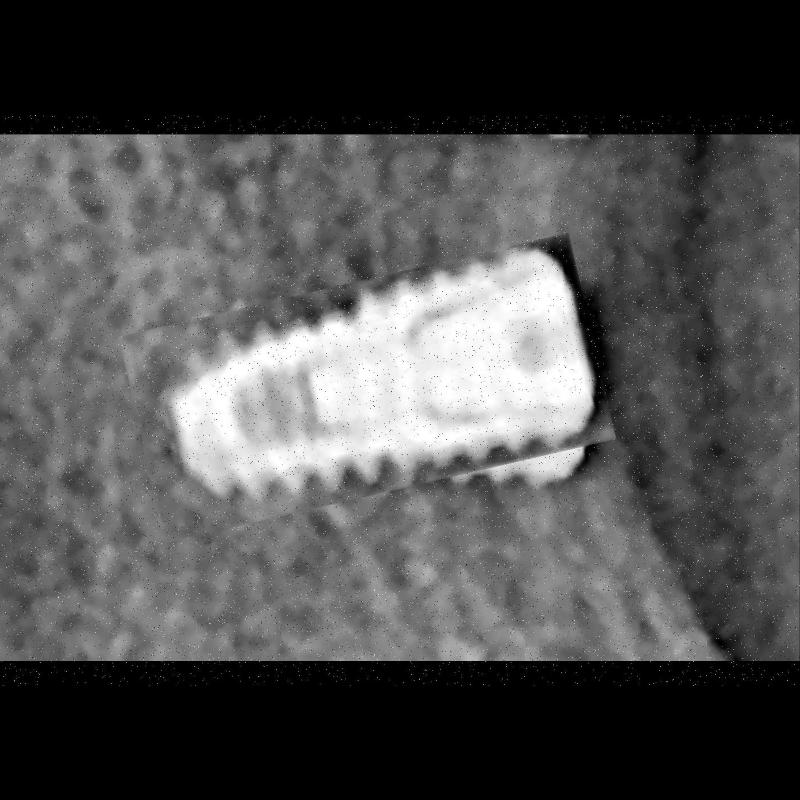osstem: (127, 257, 607, 517)
